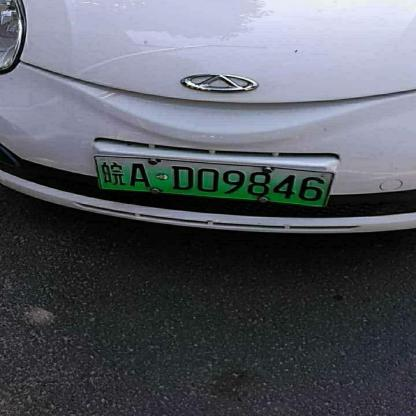lp: (92, 156, 338, 207)
